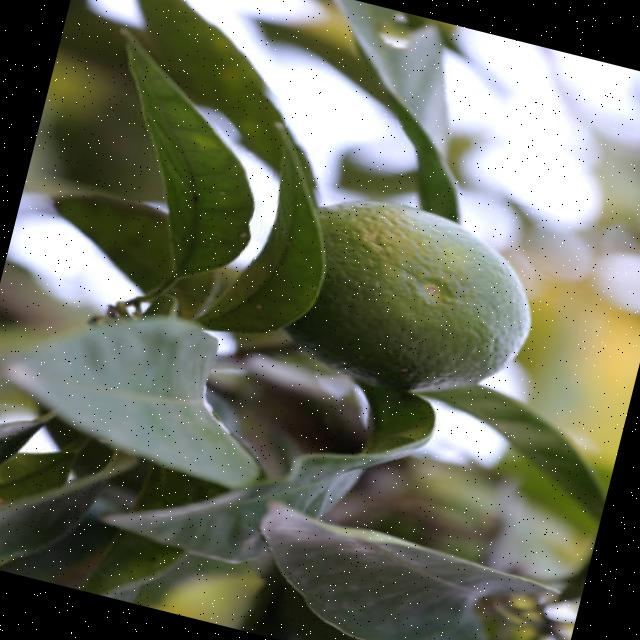Unripe: (270, 181, 551, 419)
